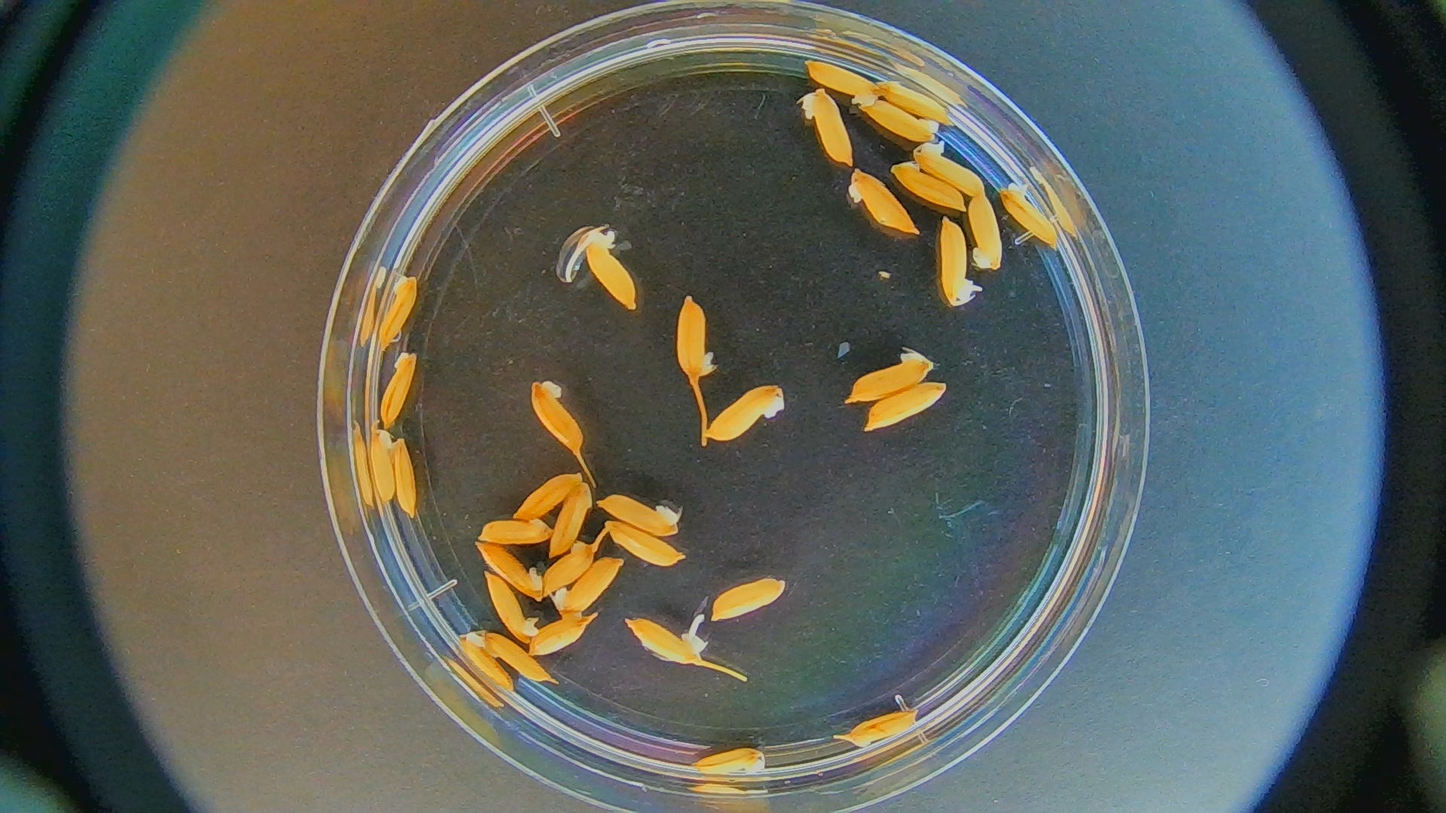no: (454, 629, 519, 704), (555, 554, 624, 623), (796, 87, 855, 166), (703, 385, 785, 440), (484, 629, 560, 688), (848, 169, 915, 233), (476, 540, 543, 601), (511, 464, 585, 519), (803, 56, 880, 108), (530, 381, 583, 455), (1000, 182, 1060, 246), (865, 382, 948, 428), (539, 537, 602, 597), (486, 573, 541, 641), (853, 355, 932, 400), (545, 481, 593, 555), (889, 160, 965, 206), (607, 519, 683, 565), (879, 82, 951, 127), (599, 495, 682, 534), (711, 577, 786, 620), (379, 275, 420, 350), (866, 99, 939, 140), (380, 353, 418, 428), (850, 709, 917, 750), (678, 298, 711, 379), (530, 615, 590, 655), (970, 194, 1001, 269), (481, 517, 554, 548), (392, 438, 419, 516), (369, 428, 397, 502), (694, 747, 764, 774)
yes: (936, 217, 984, 307), (584, 231, 635, 309), (915, 141, 985, 195), (627, 617, 700, 665)
